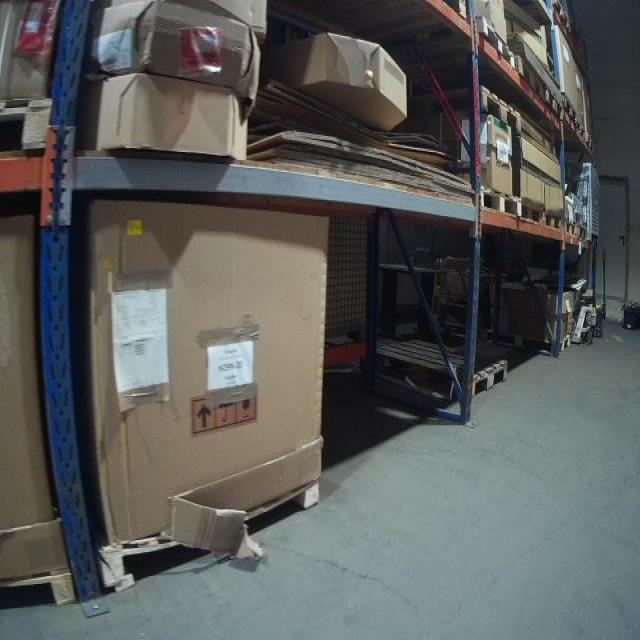pallet: (98, 479, 323, 601), (367, 335, 509, 401), (0, 95, 54, 156), (0, 571, 76, 614), (470, 16, 516, 71), (509, 335, 571, 360), (476, 186, 521, 218), (514, 56, 544, 99), (549, 0, 572, 33), (516, 199, 544, 225), (542, 87, 564, 120), (561, 93, 579, 127), (542, 214, 562, 229), (563, 221, 578, 239)
pallet_truck: (569, 238, 597, 347), (593, 245, 612, 331)
stillage: (323, 206, 377, 364)
